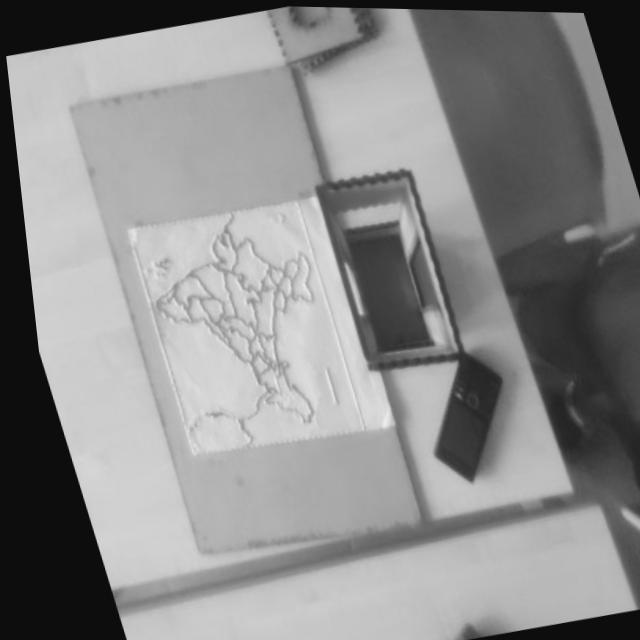map: (127, 181, 365, 479)
